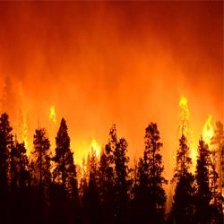fire: (44, 107, 224, 187)
